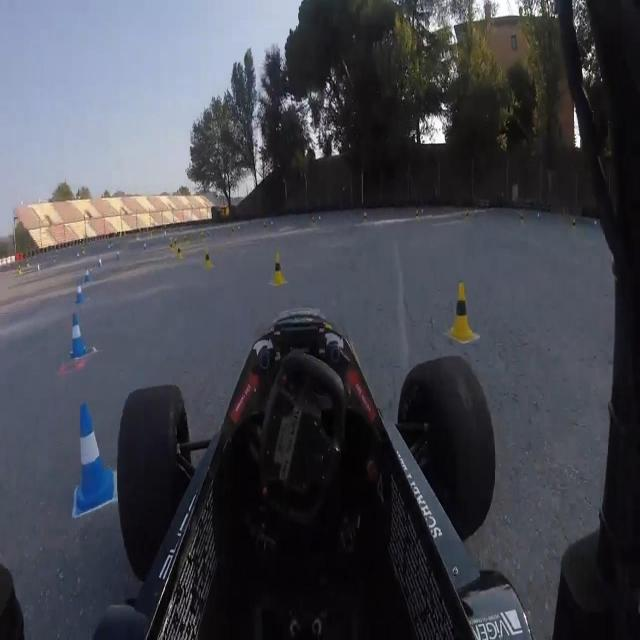blue_cone: (68, 399, 117, 514), (70, 310, 92, 359), (73, 282, 85, 306), (82, 266, 92, 284), (98, 255, 104, 271), (143, 240, 148, 252), (117, 249, 120, 264)
yellow_cone: (448, 277, 479, 347), (272, 250, 288, 288), (203, 247, 214, 271), (177, 244, 185, 265), (16, 263, 23, 276), (200, 231, 206, 244), (464, 209, 470, 222), (572, 216, 576, 230), (169, 237, 172, 252), (520, 213, 524, 224), (174, 238, 176, 251)
